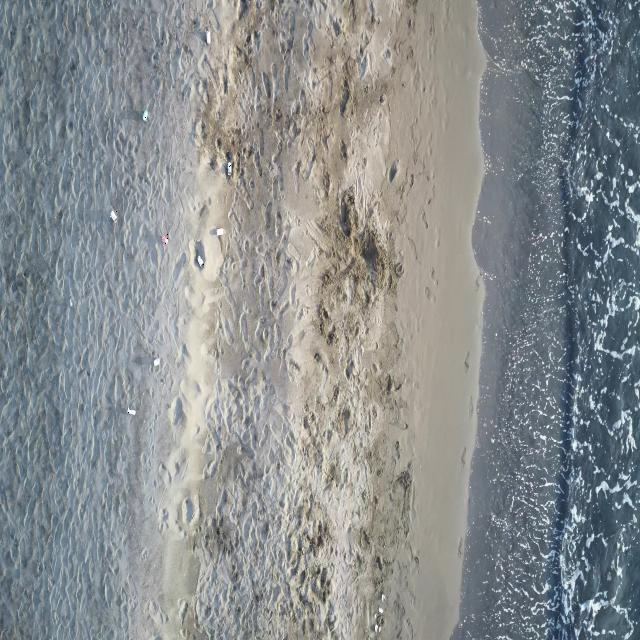tin-and-aluminum-cans: (141, 108, 149, 122), (110, 210, 117, 223), (197, 255, 204, 268), (227, 161, 232, 176), (206, 30, 211, 45), (127, 408, 136, 416), (216, 228, 225, 236), (162, 234, 168, 245), (153, 358, 161, 366)
